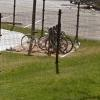Bicycle: (14, 25, 82, 61)
